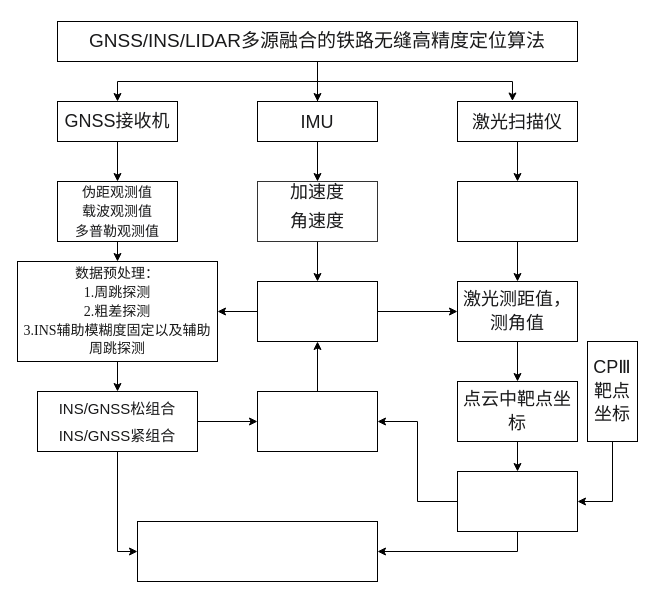
Some shapes in this 655 by 599 pixel diagram are drawn without their labels. The shapes that lost their labels are listed below. From the top down, each one's centre as x and y in pixels, then its label:
At (x=517, y=211): "特征识别标靶控制点".
At (x=317, y=311): "INS机械编排".
At (x=317, y=421): "惯导误差".
At (x=517, y=501): "INS/LiDAR组合滤波".
At (x=257, y=551): "INS/GNSS/LiDAR无缝定位".
